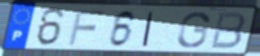6: (35, 7, 66, 48), (109, 10, 136, 48)
B: (209, 11, 247, 50)
F: (66, 8, 106, 46)
G: (176, 11, 212, 49)
I: (140, 10, 156, 48)
